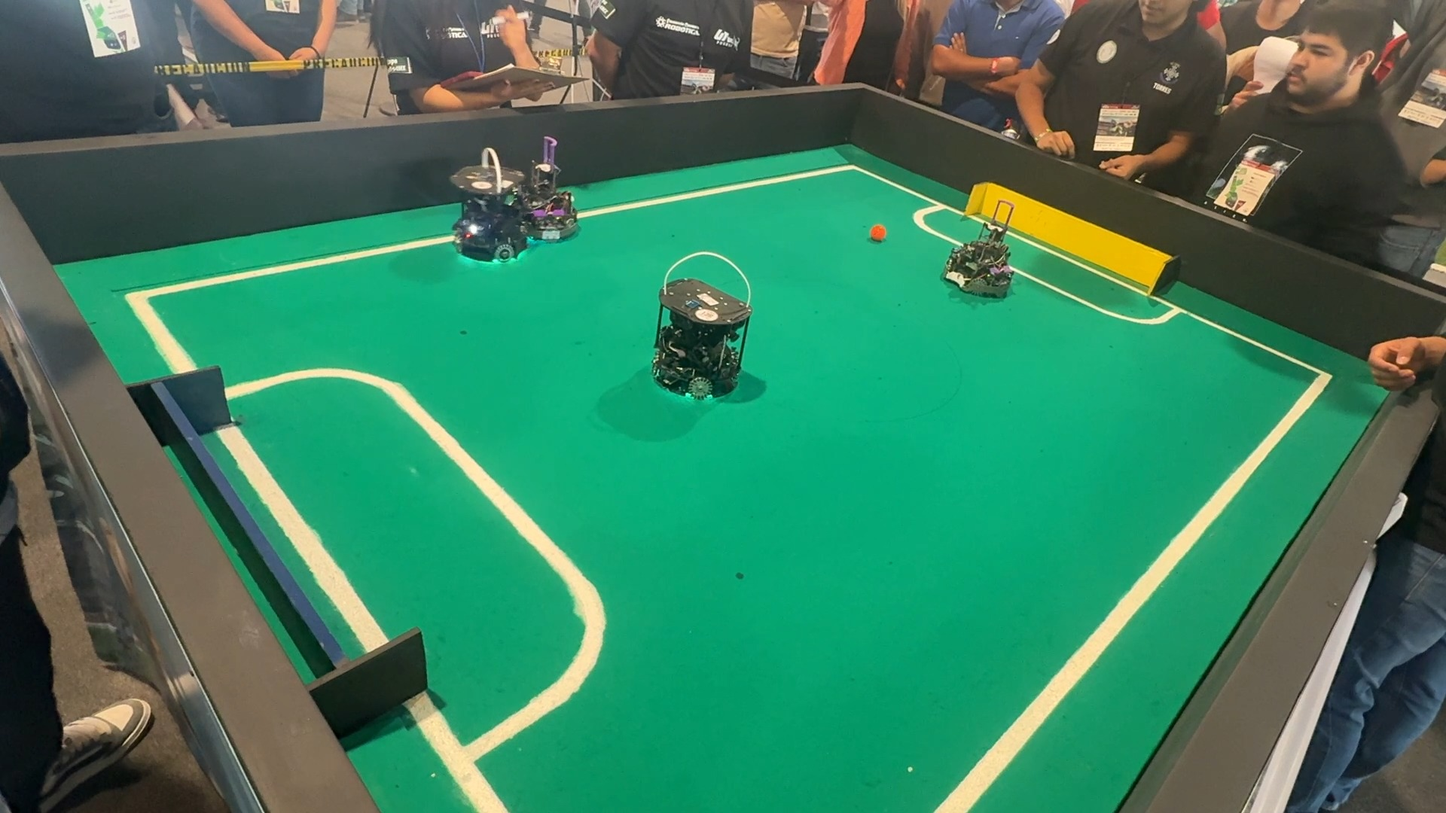Robot: (636, 247, 771, 430), (442, 138, 589, 279), (923, 184, 1037, 315)
pelota: (863, 219, 893, 246)
